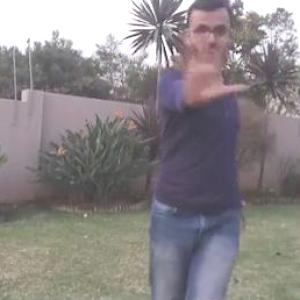follow_hand: (173, 29, 248, 102)
